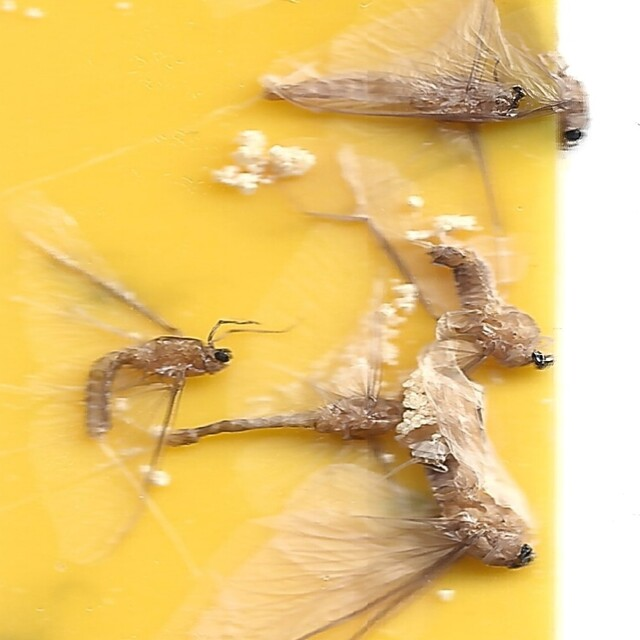Ephemeroptera: (389, 397, 539, 575), (416, 231, 557, 382), (83, 326, 237, 439), (250, 65, 511, 129), (161, 391, 435, 448)
